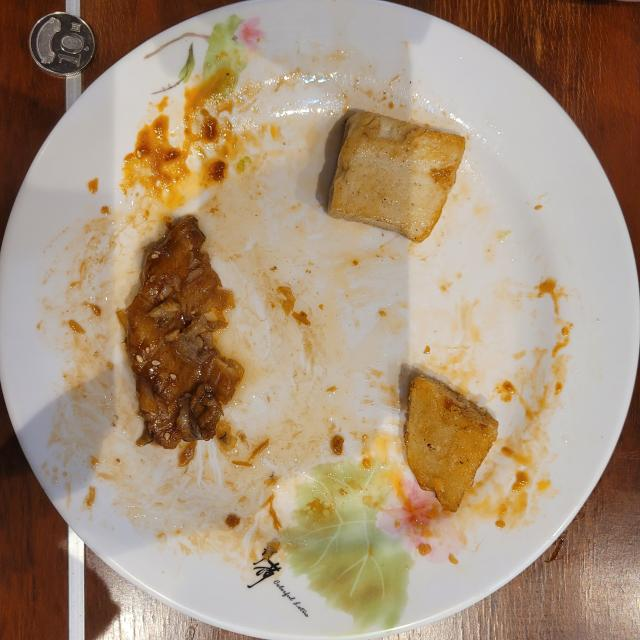Kabayaki sea bream fillet: (119, 216, 244, 449)
coin: (30, 12, 95, 76)
creamy tofu -without sauce-: (328, 111, 465, 242)
fried potato: (404, 376, 498, 511)
